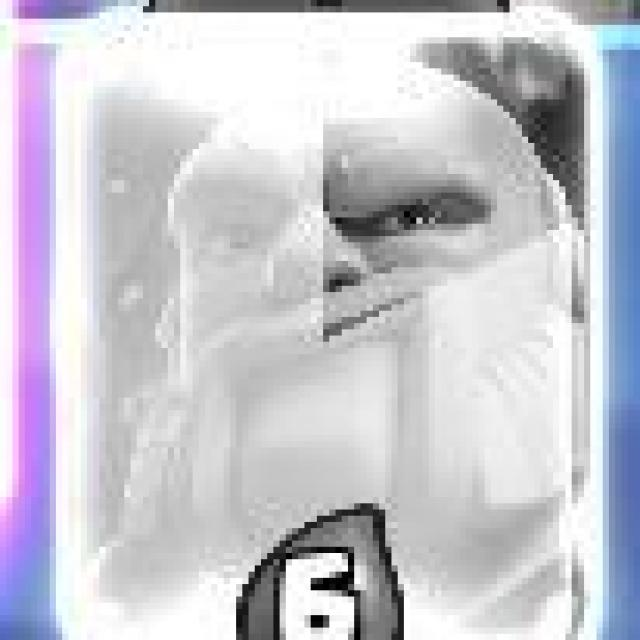Evolved_Royal_Giant: (66, 11, 606, 640)
